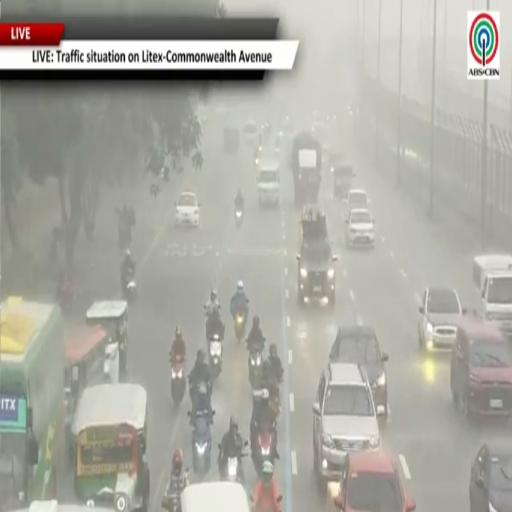car: (313, 363, 381, 490), (450, 316, 511, 420), (330, 325, 389, 418), (334, 450, 416, 511), (419, 287, 465, 351), (469, 444, 511, 511), (345, 208, 375, 247), (176, 192, 200, 227), (343, 189, 371, 218), (243, 120, 260, 148)
jeepney: (72, 383, 149, 511), (65, 326, 118, 456), (86, 300, 128, 381), (12, 500, 90, 511)
motorcycle: (192, 414, 211, 476), (252, 426, 275, 475), (221, 454, 247, 484), (171, 357, 186, 405), (208, 332, 223, 378), (162, 482, 184, 511), (189, 379, 212, 402), (249, 349, 262, 389), (250, 495, 282, 511), (57, 282, 74, 312), (123, 270, 137, 302), (269, 381, 281, 418), (162, 493, 181, 511), (119, 223, 131, 249), (235, 313, 245, 342), (235, 207, 243, 227)
truck: (0, 297, 65, 509), (297, 205, 338, 307), (474, 254, 511, 337), (292, 132, 321, 206)
